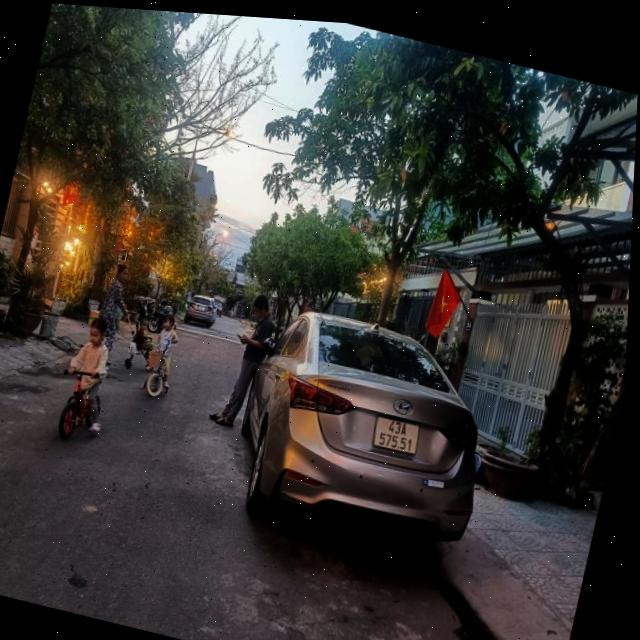car: (210, 290, 510, 575), (179, 284, 223, 333)
motorcycle: (49, 363, 108, 452)
plate: (365, 405, 427, 463)
